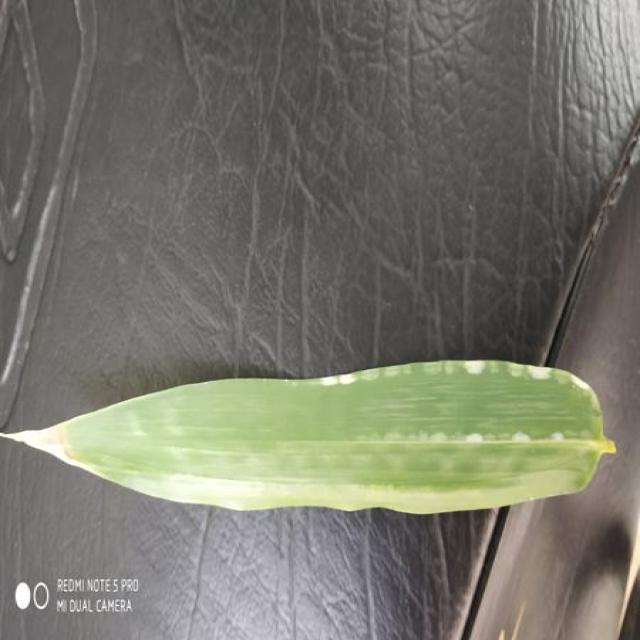Bamboo: (3, 360, 615, 514)
defectedBamboo: (68, 431, 613, 514)
